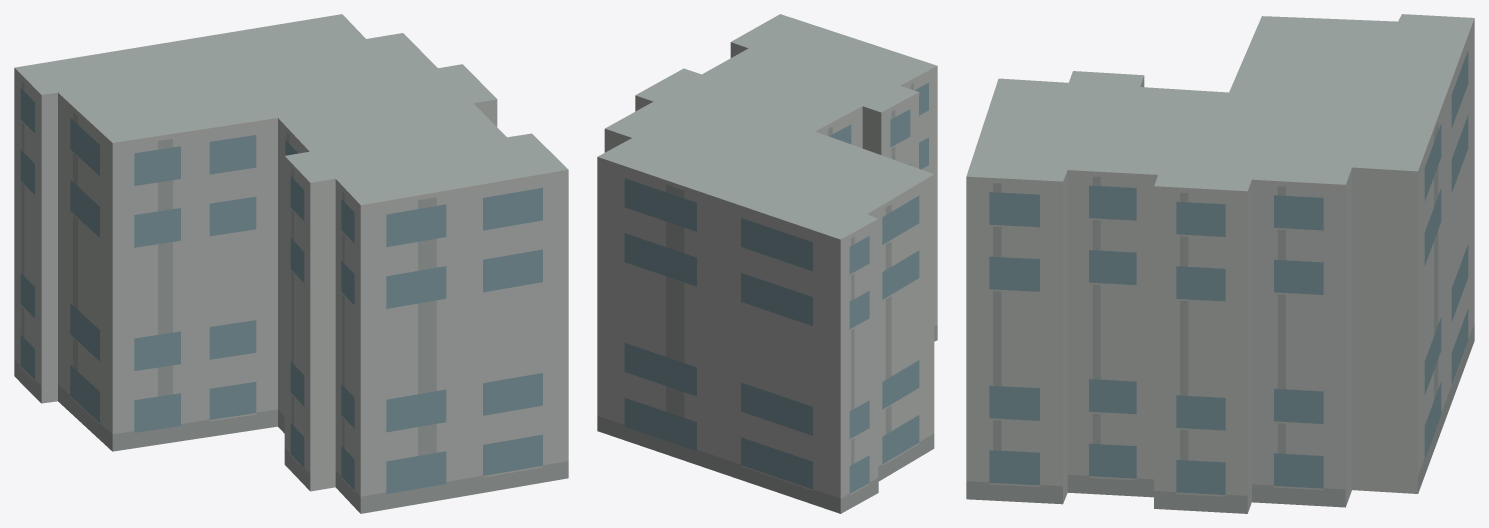
Rendered from survey-upis-32529097.glb.
The picture shows the model from 3 angles, left to right: view 1: azimuth 30°, elevation 25°; view 2: azimuth 150°, elevation 25°; view 3: azimuth 270°, elevation 25°; orthographic projection. The views are drawn at different scales.
Parts seen in each view (by area): view 1: survey-upis-32529097.tmp; view 2: survey-upis-32529097.tmp; view 3: survey-upis-32529097.tmp.
Boxes of the visible parts, x1,y1,x2,y2 form: survey-upis-32529097.tmp: (14, 14, 568, 513); survey-upis-32529097.tmp: (597, 14, 937, 513); survey-upis-32529097.tmp: (966, 14, 1474, 513).
Bounding box in the file's own units: 18.15 × 15.4 × 22.
